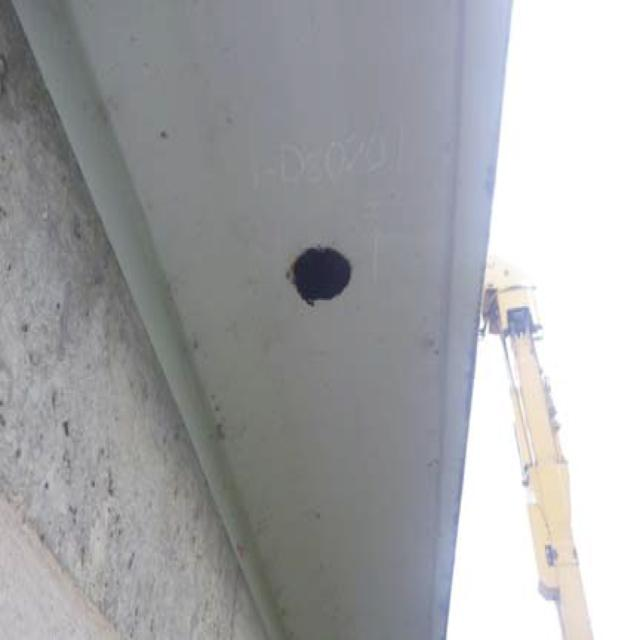corrosion: (286, 251, 367, 313)
